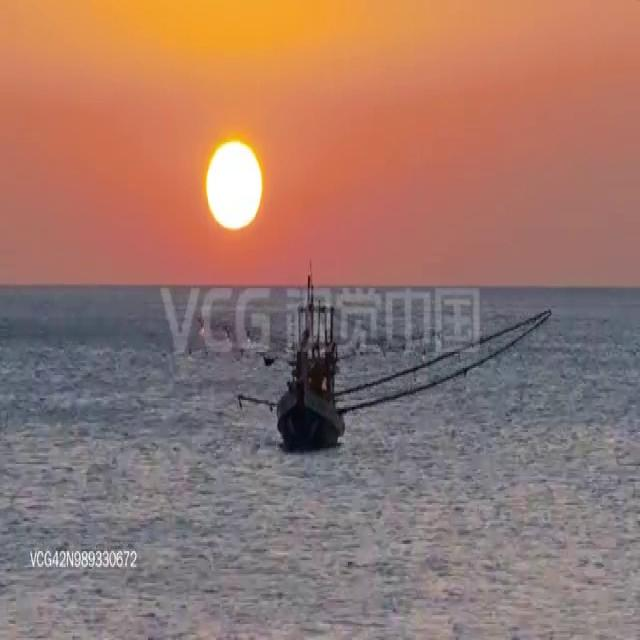houseboat: (276, 280, 345, 447)
